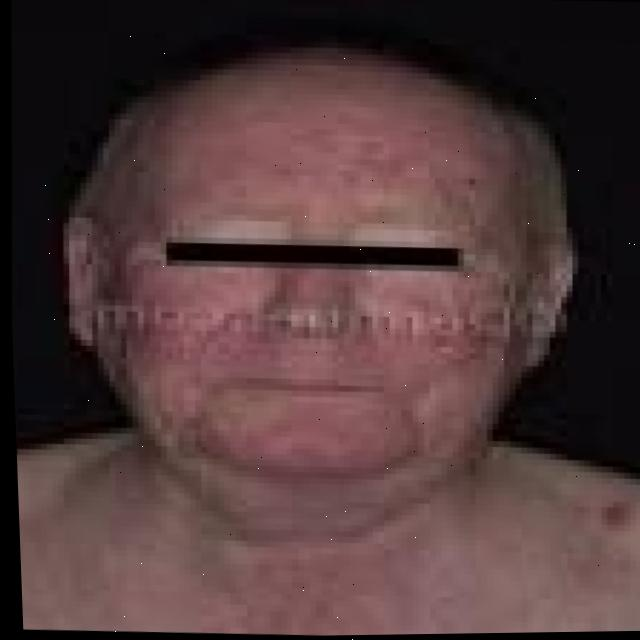Melasma: (115, 269, 251, 381), (216, 416, 383, 492), (392, 299, 486, 379)
